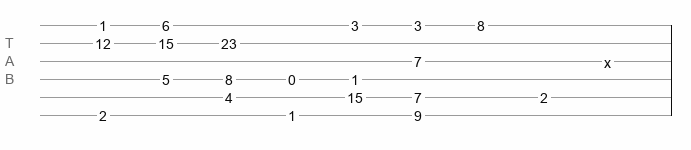0: (288, 72, 296, 82)
1: (99, 18, 107, 28), (288, 108, 296, 118), (351, 72, 359, 82)
12: (95, 36, 111, 46)
15: (158, 36, 174, 46), (347, 90, 363, 100)
2: (99, 108, 107, 118), (540, 90, 548, 100)
23: (221, 36, 237, 46)
3: (351, 18, 359, 28), (414, 18, 422, 28)
4: (225, 90, 233, 100)
5: (162, 72, 170, 82)
6: (162, 18, 170, 28)
7: (414, 90, 422, 100), (414, 54, 422, 64)
8: (225, 72, 233, 82), (477, 18, 485, 28)
9: (414, 108, 422, 118)
x: (604, 55, 611, 63)
